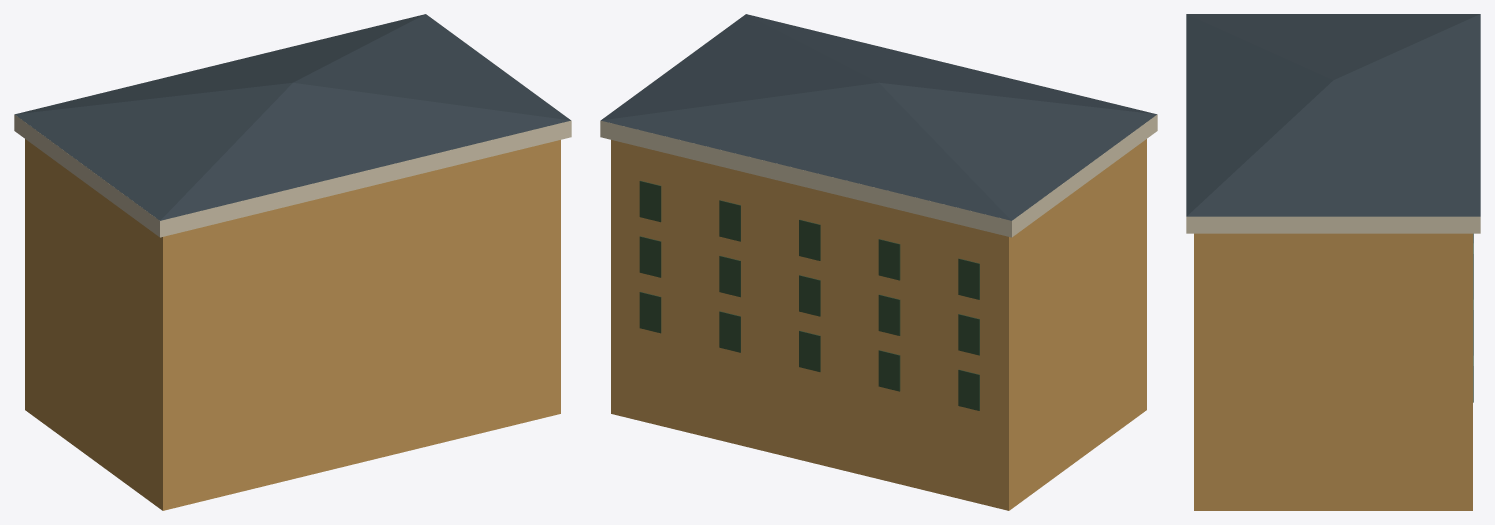
File: d-it-01-po-palazzo.glb
The picture shows the model from 3 angles, left to right: view 1: azimuth 30°, elevation 25°; view 2: azimuth 150°, elevation 25°; view 3: azimuth 270°, elevation 25°; orthographic projection.
Visible parts, largest first — view 1: part0, part17, part16; view 2: part0, part17, part16, part10, part15, part2, part12, part5, part7, part1, part13, part14 (+6 smaller); view 3: part0, part17, part16.
Boxes of the visible parts, <box> form: part0: <box>25,139,560,510</box>; part17: <box>15,14,570,220</box>; part16: <box>14,114,571,237</box>; part0: <box>611,139,1146,510</box>; part17: <box>601,14,1156,220</box>; part16: <box>600,114,1157,237</box>; part10: <box>639,236,661,277</box>; part15: <box>639,180,661,222</box>; part2: <box>878,350,900,391</box>; part12: <box>878,239,900,280</box>; part5: <box>639,292,661,333</box>; part7: <box>878,294,900,335</box>; part1: <box>958,369,979,410</box>; part13: <box>799,219,820,260</box>; part14: <box>719,200,740,241</box>; part0: <box>1194,233,1472,510</box>; part17: <box>1186,14,1480,216</box>; part16: <box>1186,216,1480,233</box>.
Size of the model in its own units: 31000 by 23701 by 18999.
